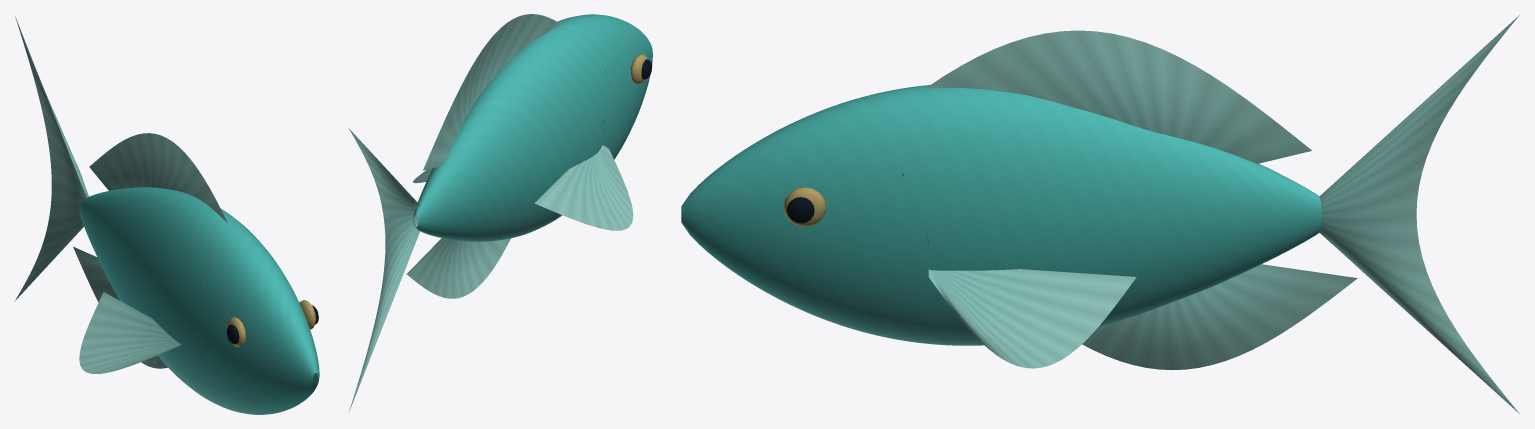
File: chromis.glb
3 views of the same model, side by side, from view 1: azimuth 30°, elevation 25°; view 2: azimuth 150°, elevation 25°; view 3: azimuth 270°, elevation 25° (orthographic). The views are drawn at different scales.
Parts seen in each view (by area): view 1: Ocean Slice chromis; view 2: Ocean Slice chromis; view 3: Ocean Slice chromis.
Boxes of the visible parts, box(x1,y1,x2,y2) form: Ocean Slice chromis: box(14, 16, 319, 414); Ocean Slice chromis: box(348, 14, 652, 411); Ocean Slice chromis: box(681, 14, 1520, 414).
Size of the model in its own units: 0.52 by 0.68 by 1.29.
